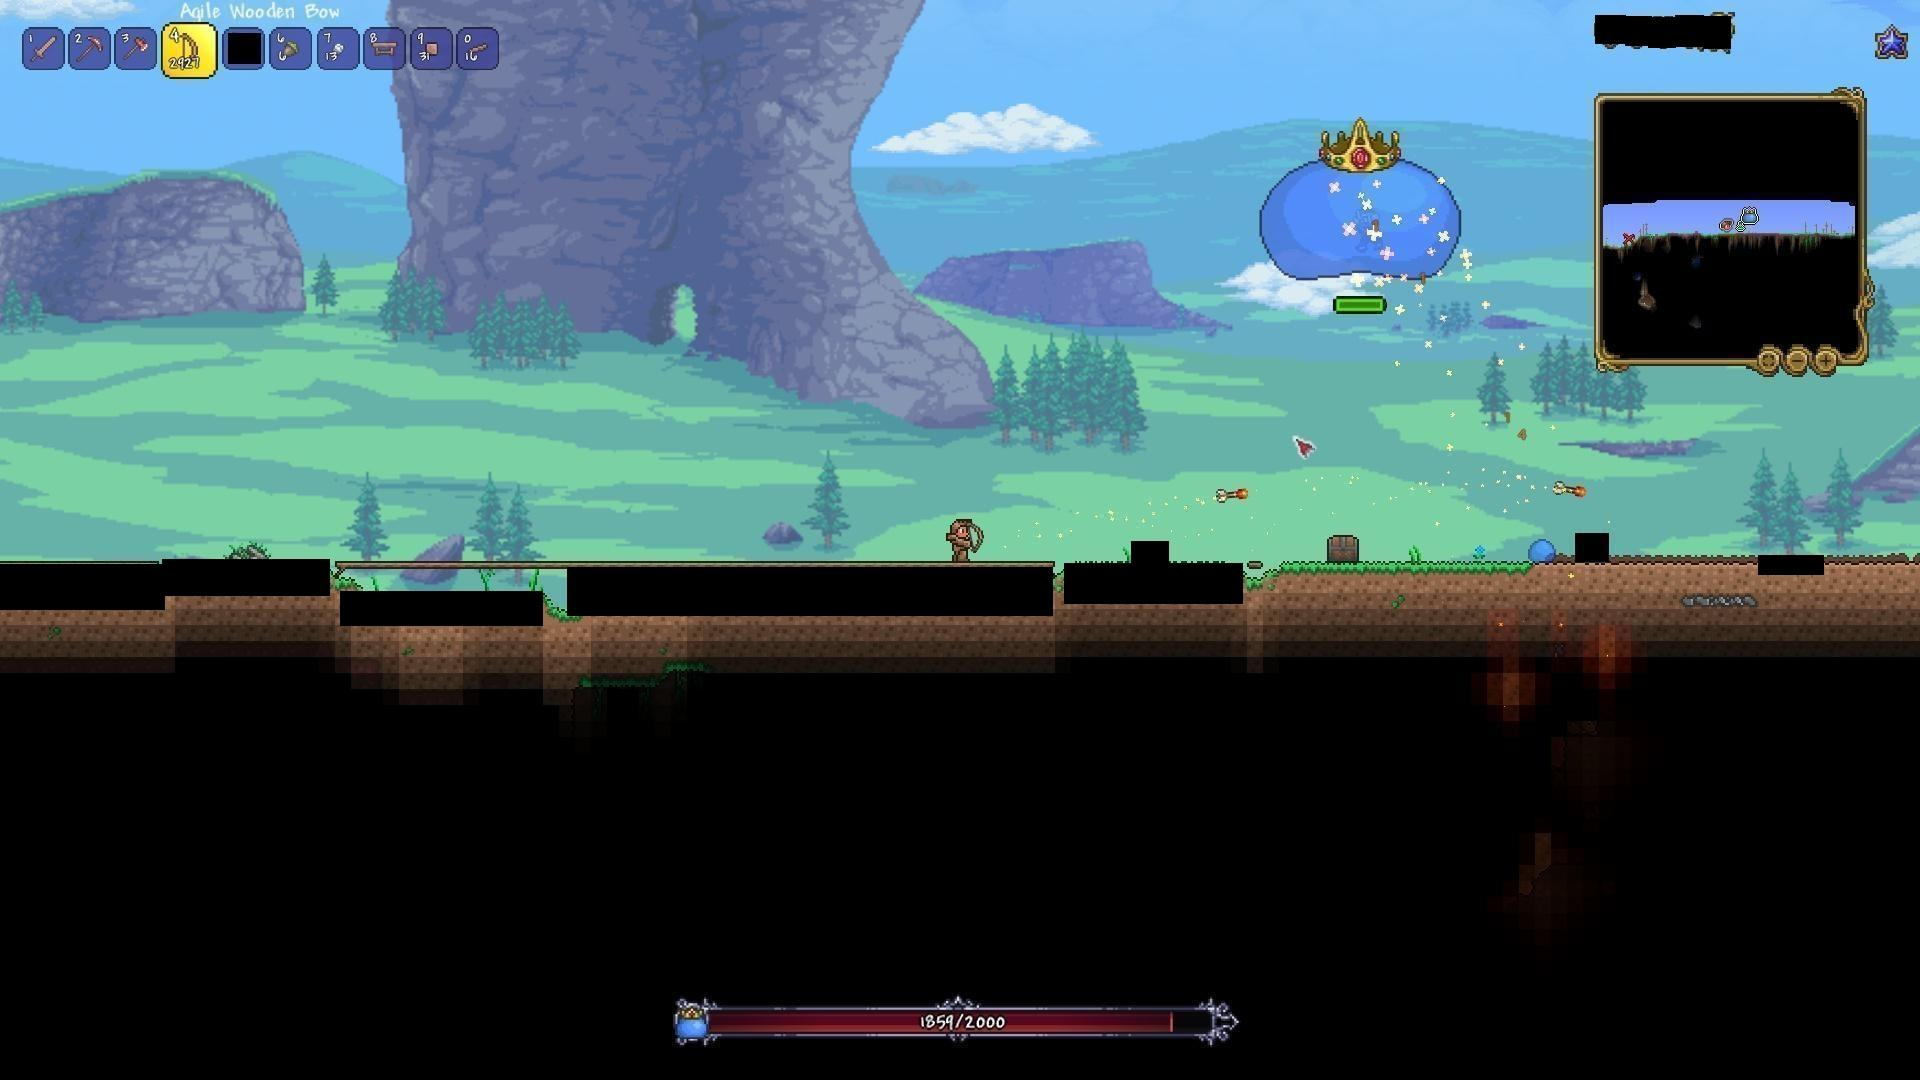dirt: (1269, 556, 1524, 592)
slime: (1526, 535, 1557, 562)
workbench: (367, 34, 404, 59)
